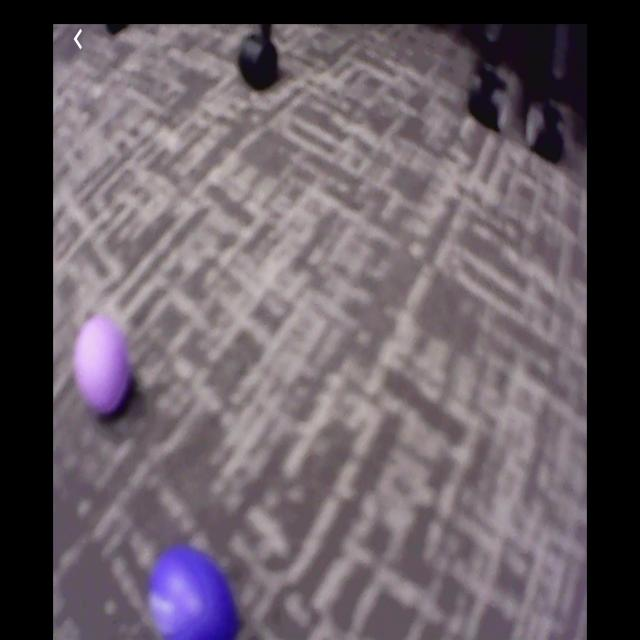ball: (151, 549, 239, 639), (75, 317, 132, 418)
